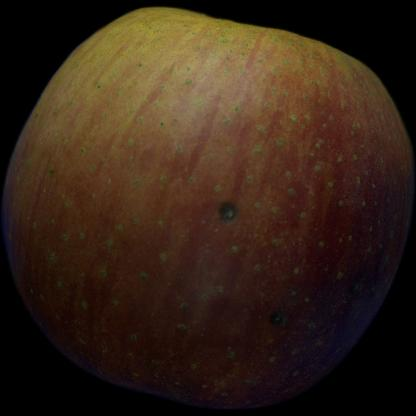defect: (204, 183, 280, 251)
